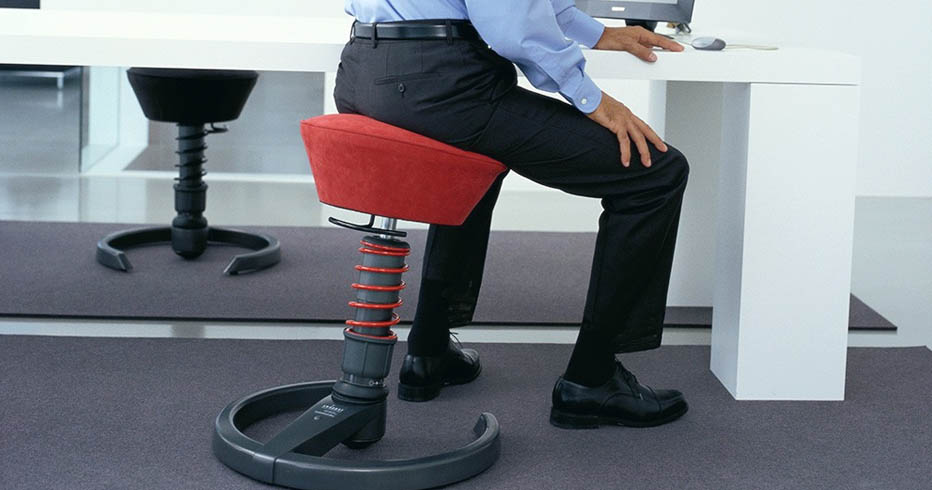chairs: (210, 111, 516, 484), (81, 57, 292, 279)
